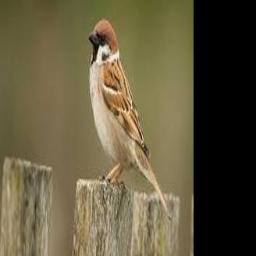Sparrow: (88, 18, 171, 221)
